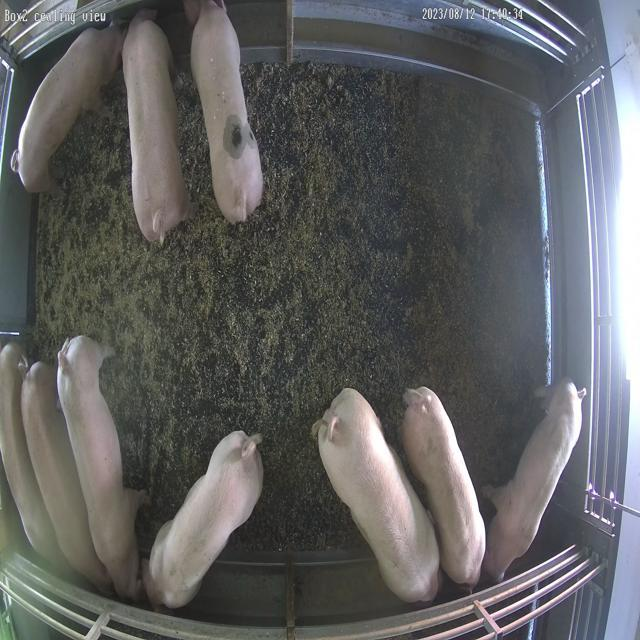Dirt: (31, 64, 547, 552)
Pig: (315, 389, 440, 602), (58, 336, 141, 600), (143, 432, 263, 608), (484, 379, 587, 582), (21, 362, 107, 582), (11, 25, 124, 192), (402, 388, 487, 586), (191, 0, 262, 223), (122, 9, 189, 242), (0, 343, 62, 564), (78, 561, 110, 590)
